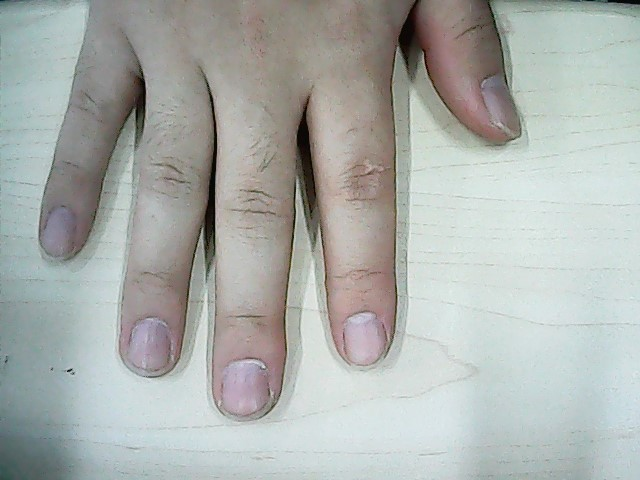nail: (219, 359, 272, 419), (125, 315, 174, 375), (481, 73, 523, 142), (341, 309, 389, 366), (40, 205, 77, 261)
